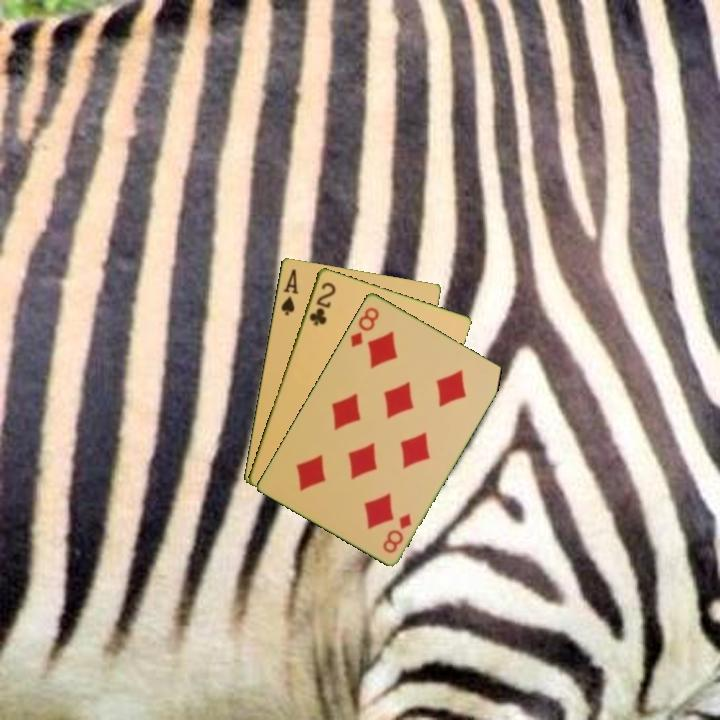2c: (305, 278, 338, 329)
8d: (346, 303, 382, 350), (379, 509, 414, 556)
As: (277, 265, 301, 318)
